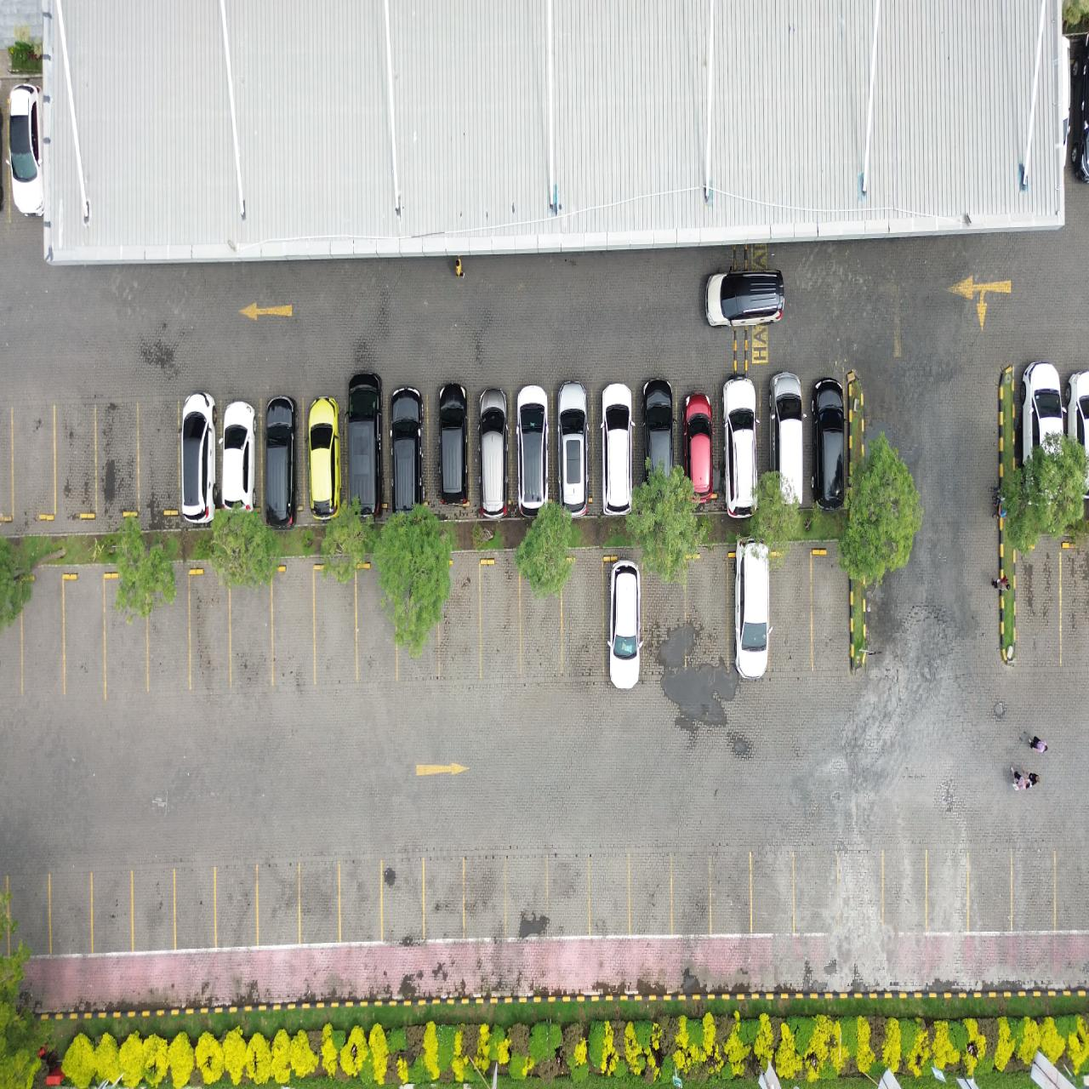cars: (346, 394, 383, 519), (469, 393, 506, 518), (511, 394, 548, 519), (732, 553, 769, 678), (182, 392, 219, 516), (221, 393, 258, 517), (301, 395, 338, 519), (261, 394, 298, 518), (385, 395, 422, 519), (430, 393, 467, 517), (550, 395, 587, 519), (637, 393, 674, 517), (597, 392, 634, 516), (718, 392, 755, 516), (678, 391, 715, 515), (804, 387, 841, 511), (765, 386, 802, 510), (606, 557, 643, 681)
empty: (107, 562, 147, 717), (23, 562, 63, 717), (150, 560, 190, 714), (441, 550, 481, 702), (645, 544, 687, 687), (192, 560, 231, 713), (275, 557, 314, 709), (66, 563, 104, 718), (233, 559, 271, 713), (564, 548, 603, 698), (400, 553, 439, 703), (359, 553, 398, 703), (317, 553, 356, 703), (14, 379, 54, 525), (522, 550, 561, 698), (97, 379, 137, 522), (772, 543, 812, 686), (482, 551, 520, 701), (139, 380, 179, 522), (688, 543, 727, 687), (56, 380, 94, 524), (813, 543, 848, 685)
